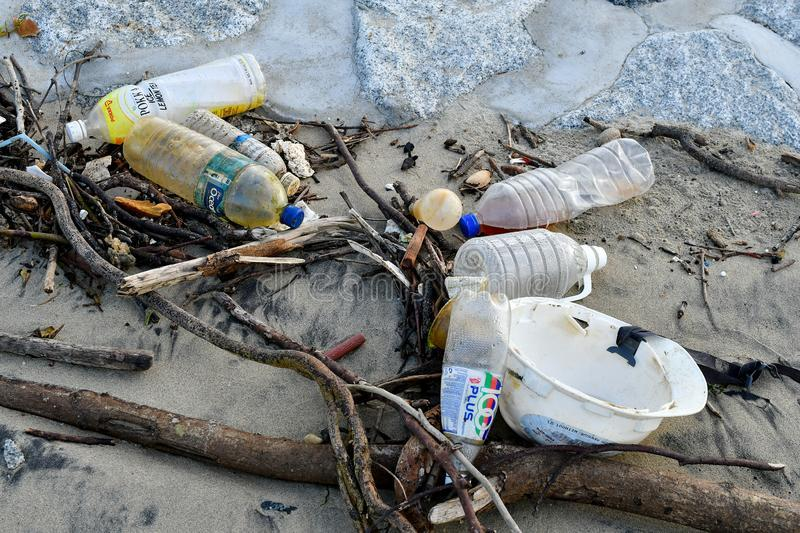Plastic: (437, 116, 687, 234), (116, 108, 318, 244), (45, 61, 300, 149), (420, 213, 637, 309), (432, 276, 527, 493)
